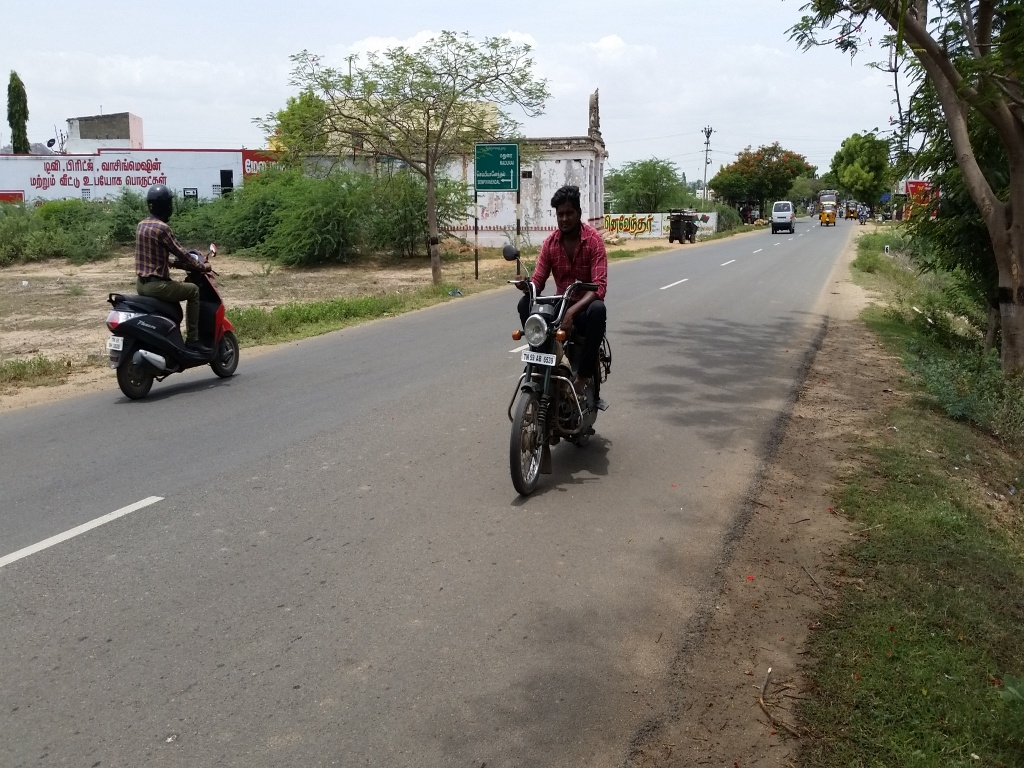biker: (462, 144, 639, 516), (91, 150, 265, 414)
helmet: (142, 177, 182, 227)
nohelmet: (545, 178, 595, 245)
